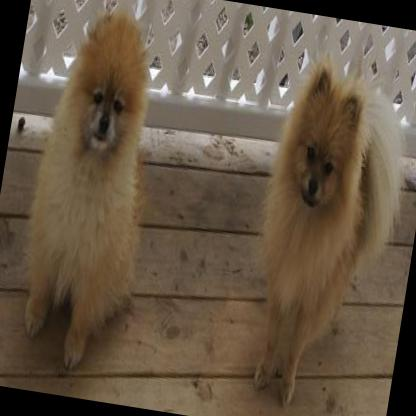Pomeranian: (228, 34, 416, 416), (9, 2, 174, 374)
